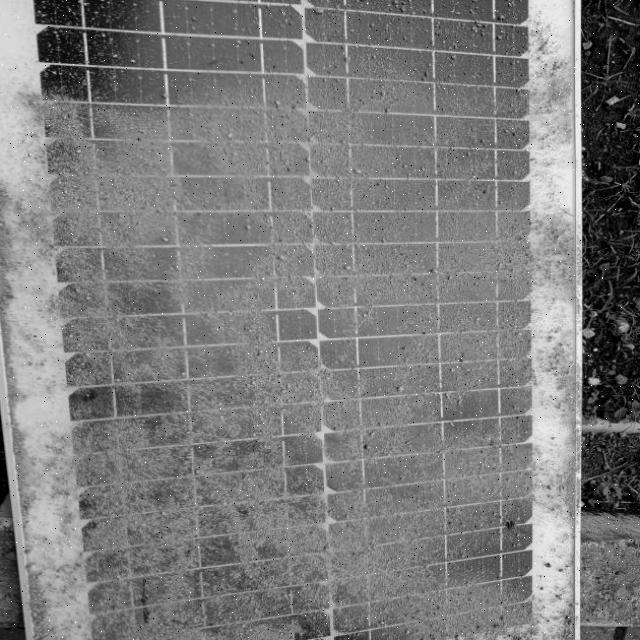Surface Contaminant: (22, 35, 560, 634)
